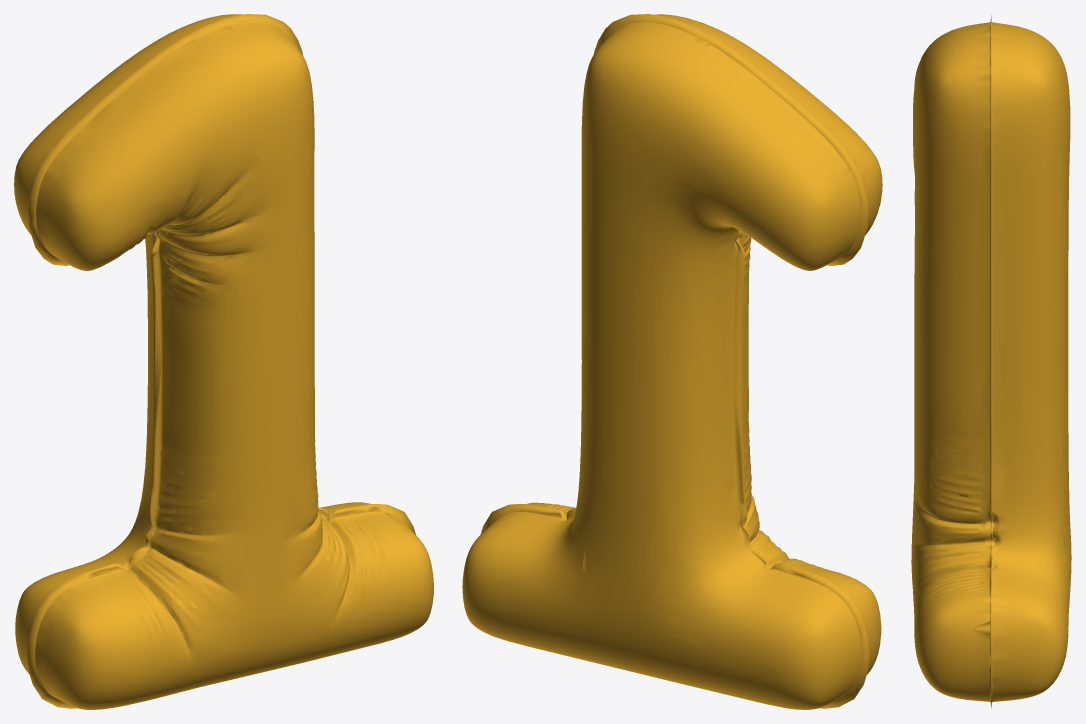
The model's file is zahlen-gold-1-v1.glb.
The picture shows the model from 3 angles, left to right: view 1: azimuth 30°, elevation 25°; view 2: azimuth 150°, elevation 25°; view 3: azimuth 270°, elevation 25°; orthographic projection. The views are drawn at different scales.
Parts seen in each view (by area): view 1: 1.001; view 2: 1.001; view 3: 1.001.
Part boxes in pixels (box(x1,y1,x2,y2)): 1.001: box(14, 14, 433, 709); 1.001: box(462, 14, 882, 709); 1.001: box(911, 15, 1071, 708).
Bounding box in the file's own units: 0.389 × 0.6214 × 0.1468.
